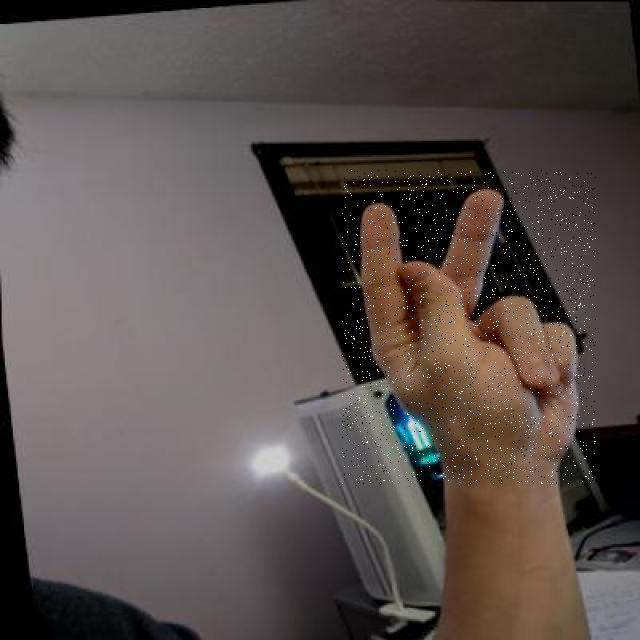K: (342, 170, 596, 484)
